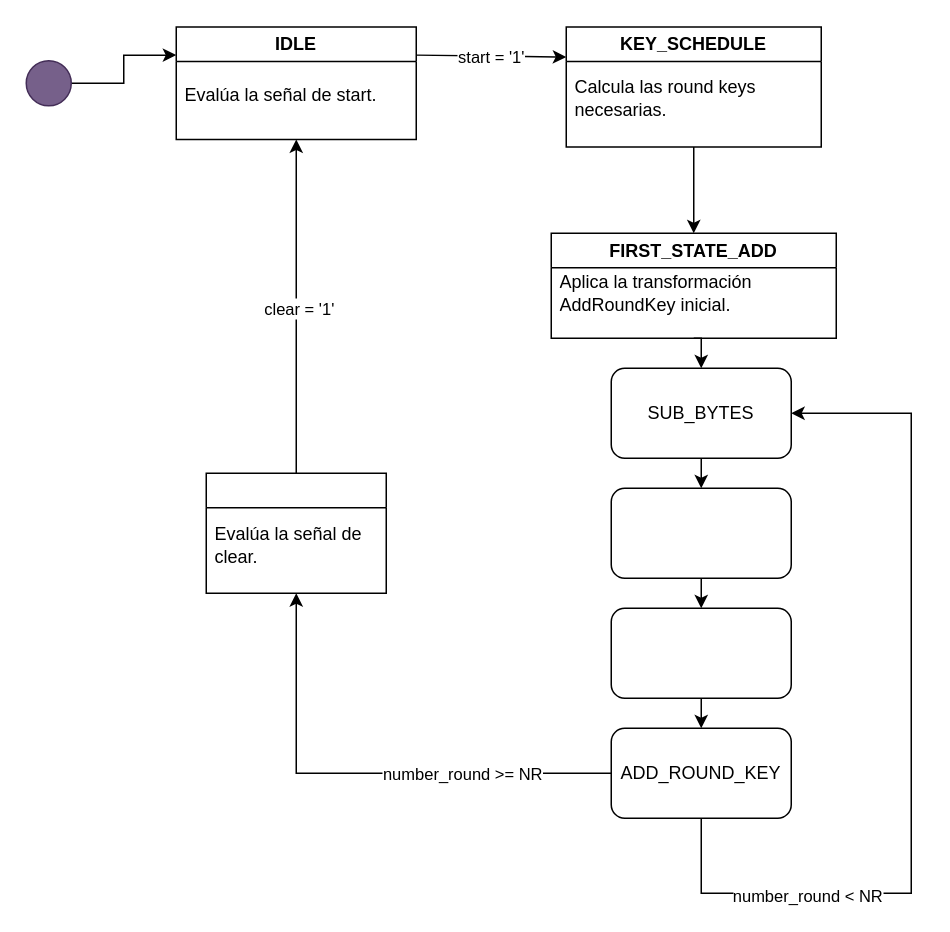
This 950x932 diagram has some shape labels left out. Here are the shapes that lost their labels. From the top down, the box of each, then its label:
(205, 472, 386, 593): FINAL_STATE
(610, 487, 791, 578): SHIFT_ROWS
(610, 607, 791, 698): MIX_COLUMNS
